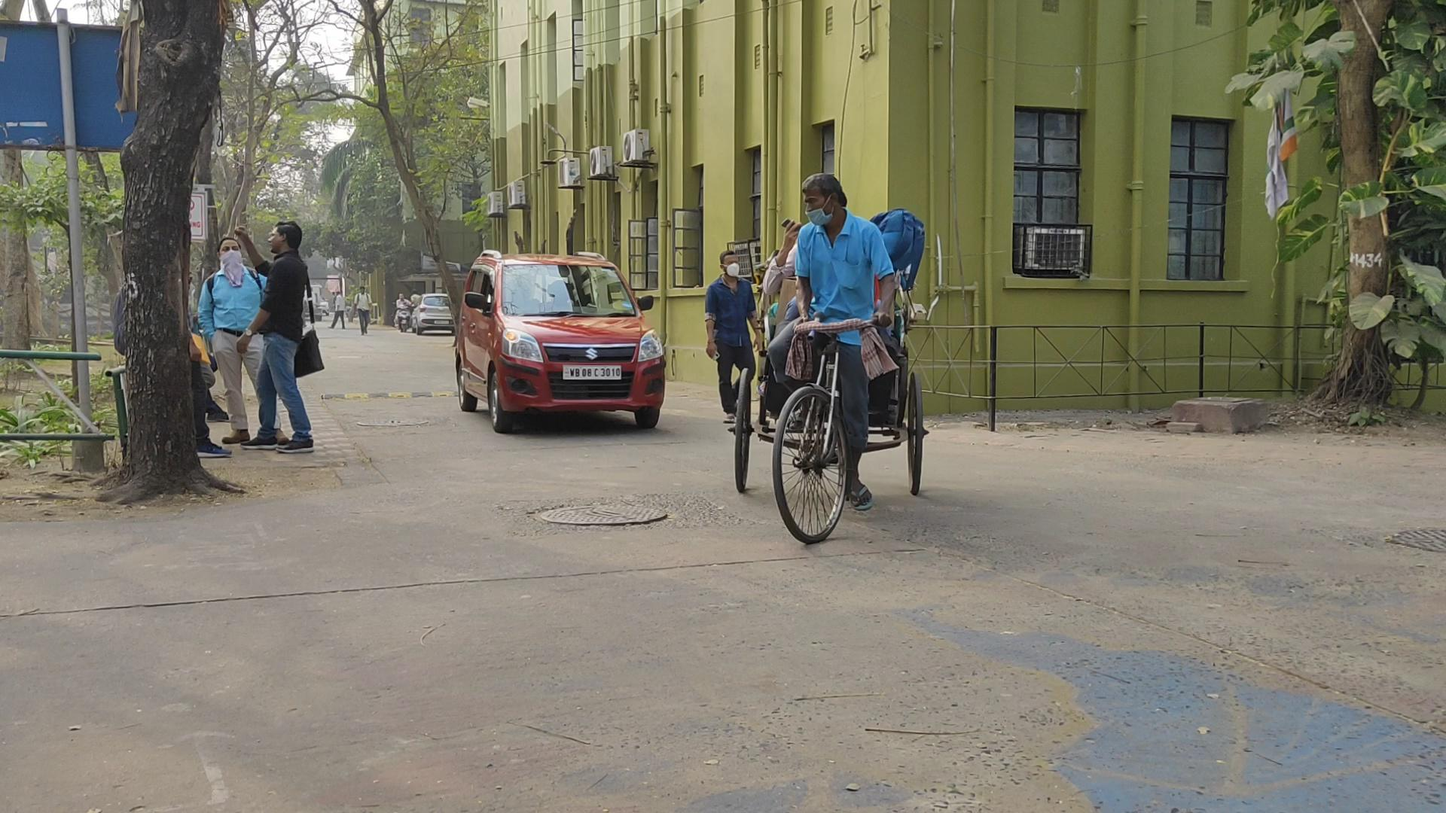bike: (392, 293, 414, 333)
car: (452, 250, 667, 430), (411, 291, 453, 338)
